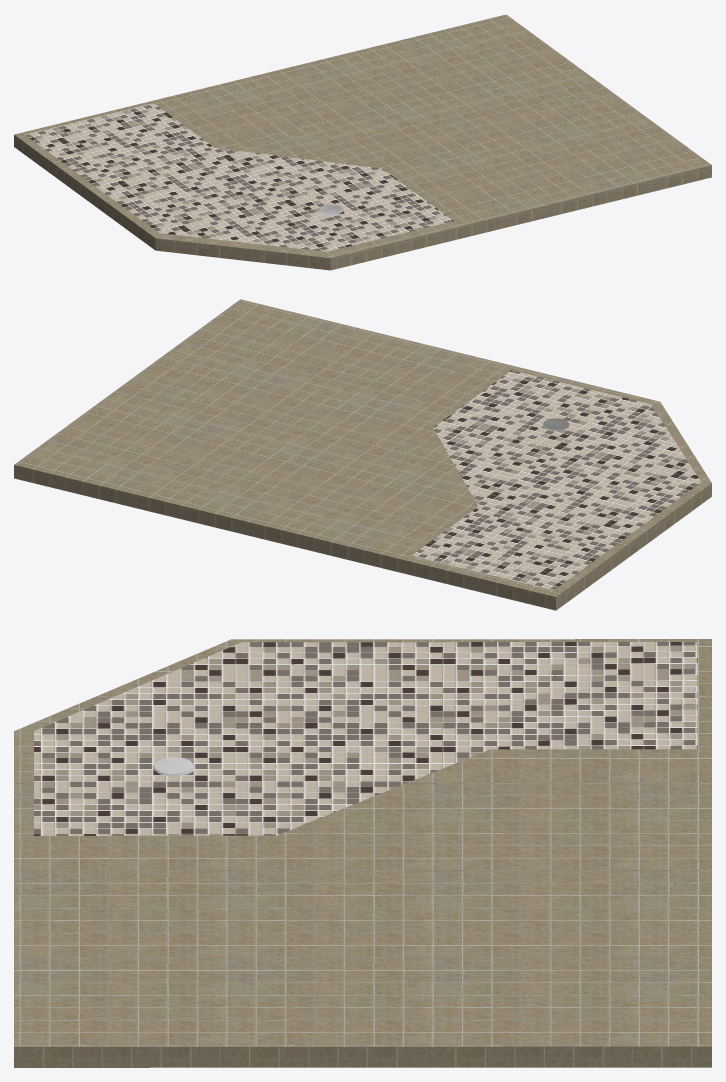
File: Floor_90681e6b.obj
3 renders of one model, top to bottom at view 1: azimuth 30°, elevation 25°; view 2: azimuth 150°, elevation 25°; view 3: azimuth 270°, elevation 25°, orthographic. The views are drawn at different scales.
Parts seen in each view (by area): view 1: mesh_d2b1c091, ShowerFloor_744c9591; view 2: mesh_d2b1c091, ShowerFloor_744c9591; view 3: mesh_d2b1c091, ShowerFloor_744c9591.
Part boxes in pixels (box(x1,y1,x2,y2)): mesh_d2b1c091: box(14, 14, 711, 270); ShowerFloor_744c9591: box(25, 103, 453, 251); mesh_d2b1c091: box(14, 299, 711, 610); ShowerFloor_744c9591: box(411, 370, 700, 590); mesh_d2b1c091: box(14, 639, 711, 1067); ShowerFloor_744c9591: box(34, 642, 697, 835).
Size of the model in its own units: 4.68 by 0.1382 by 3.38.
